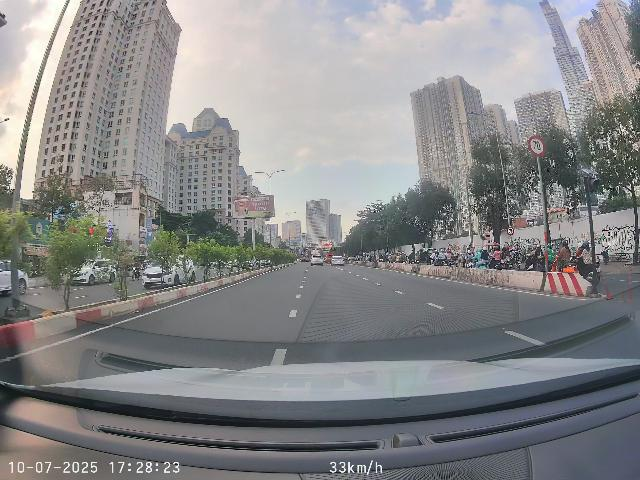127-toc-do-toi-da-60: (506, 227, 515, 235)
127-toc-do-toi-da-70: (528, 135, 546, 156)
